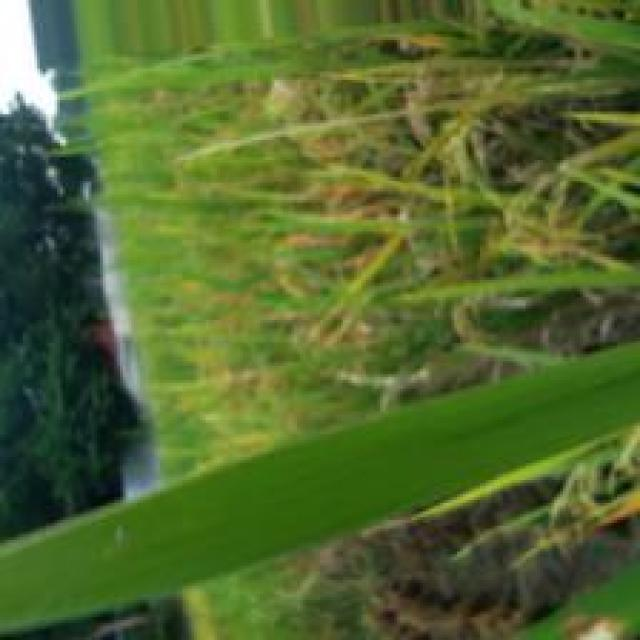HealthyLeaf: (0, 339, 640, 635)
